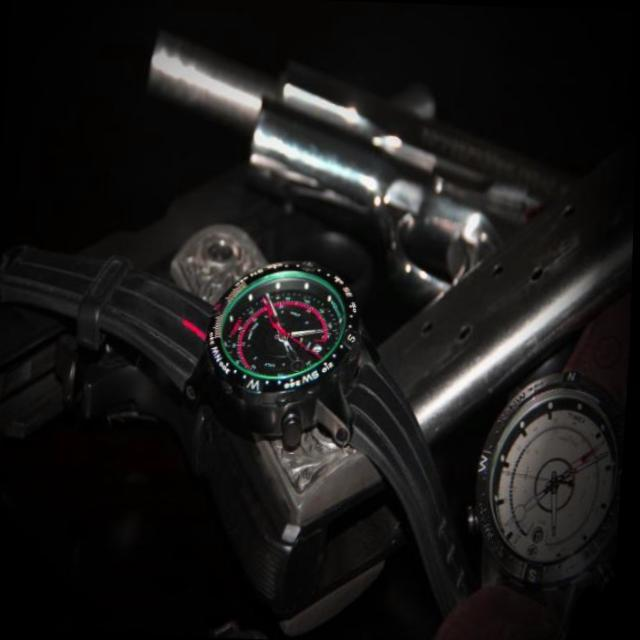weapon: (137, 21, 580, 301)
